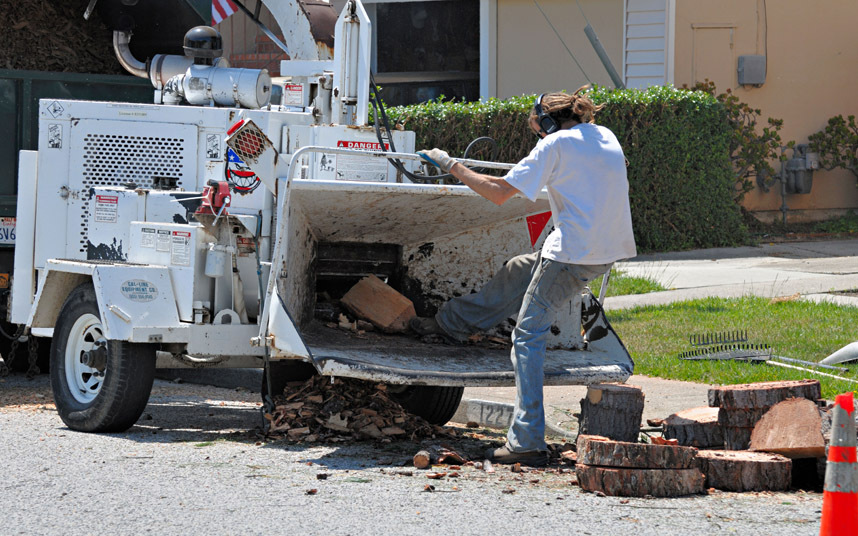noepi: (413, 83, 644, 461)
